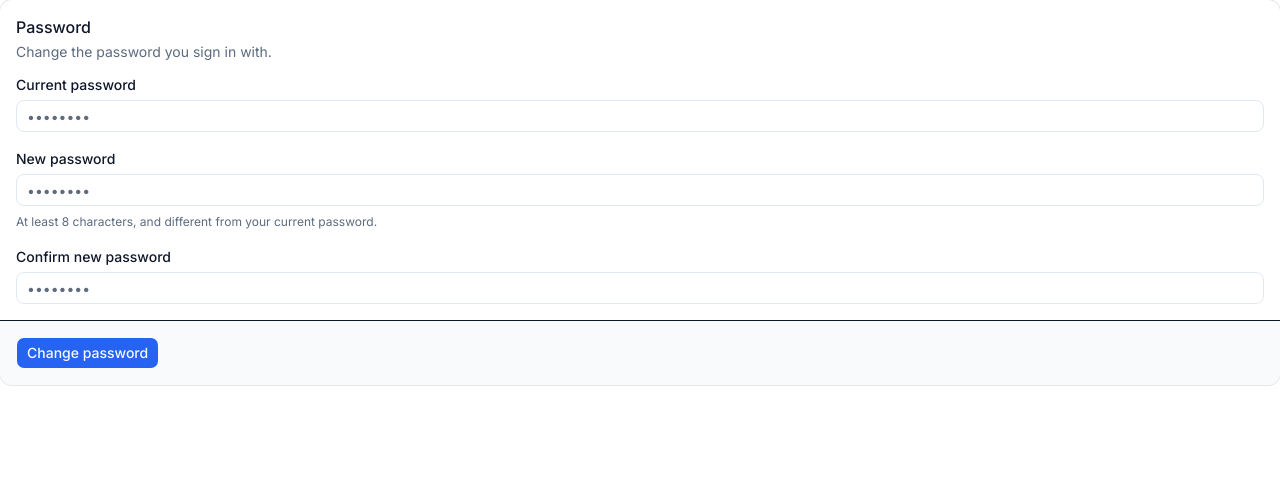
Test: ChangePasswordForm – submission › shows a pending state and blocks double submission while the action runs
Type "old-correct-horse" into the password field labelled "Current password" at x=640, y=116, box [16,100,1264,132]
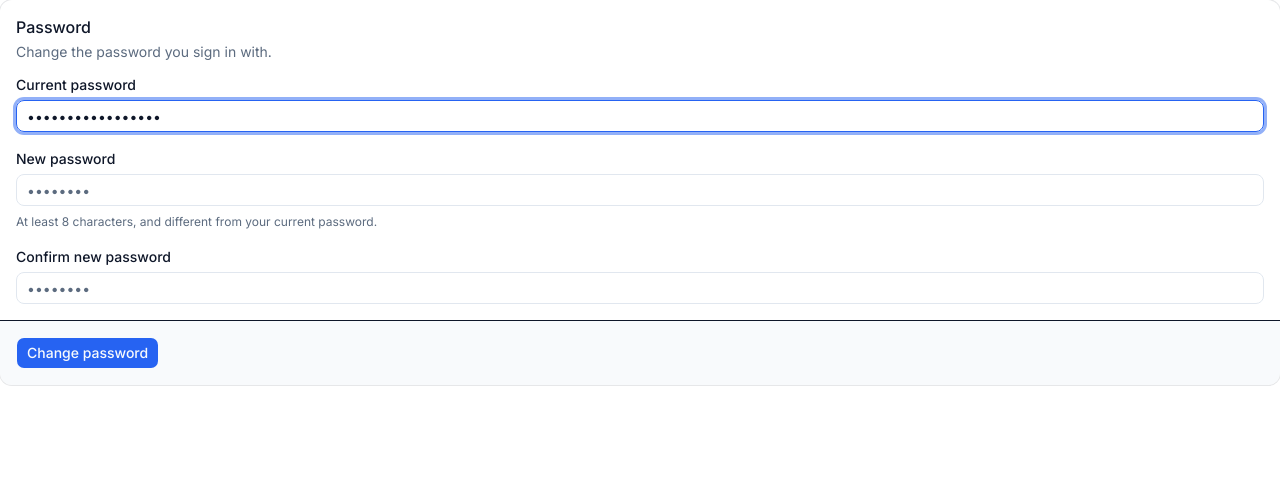
Type "new-battery-staple" into the password field labelled "New password" at x=640, y=190, box [16,174,1264,206]
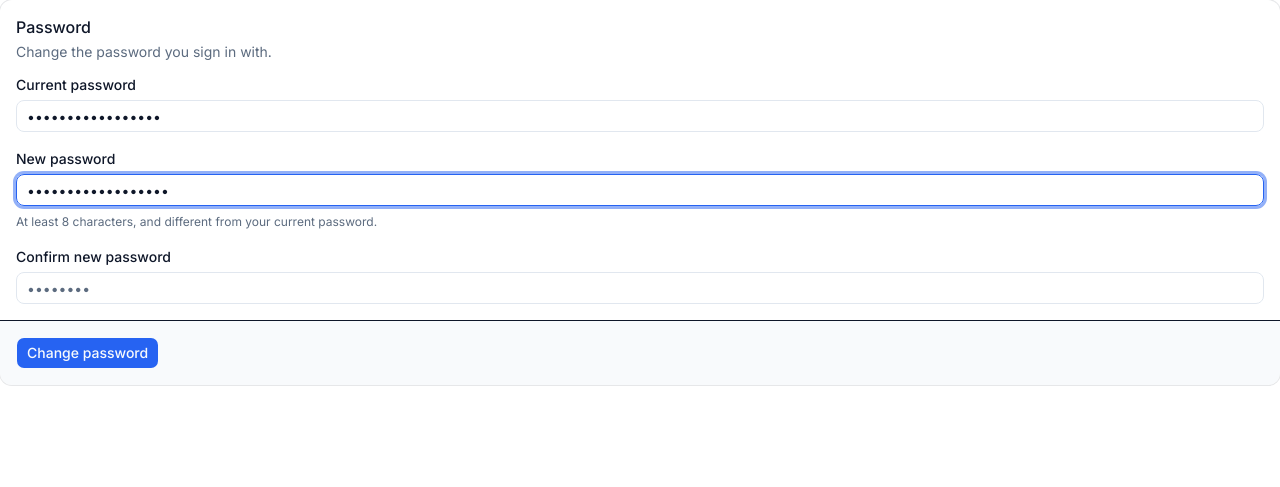
Type "new-battery-staple" into the password field labelled "Confirm new password" at x=640, y=288, box [16,272,1264,304]
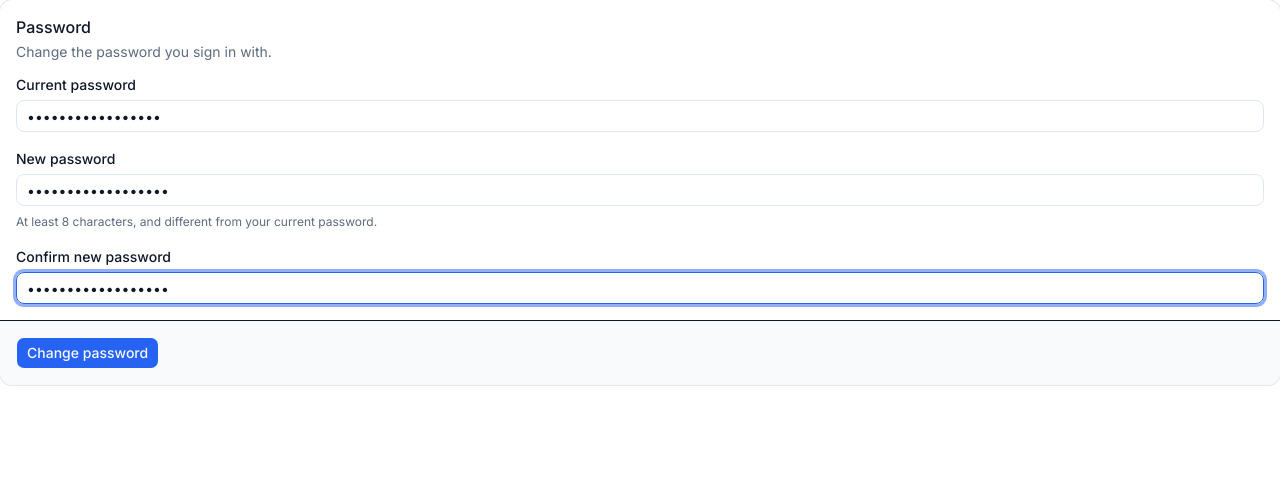
Click the button "Change password" at x=88, y=353, box [16,337,159,369]
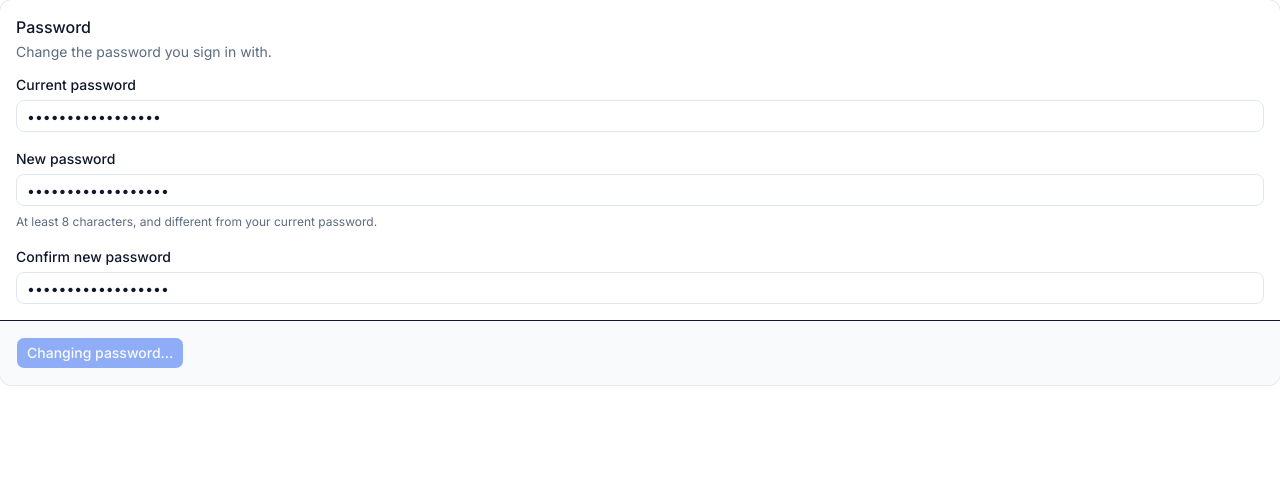
Expected: the button "Changing password…" is disabled
Click the button "Changing password…" at x=100, y=353, box [16,337,184,369]
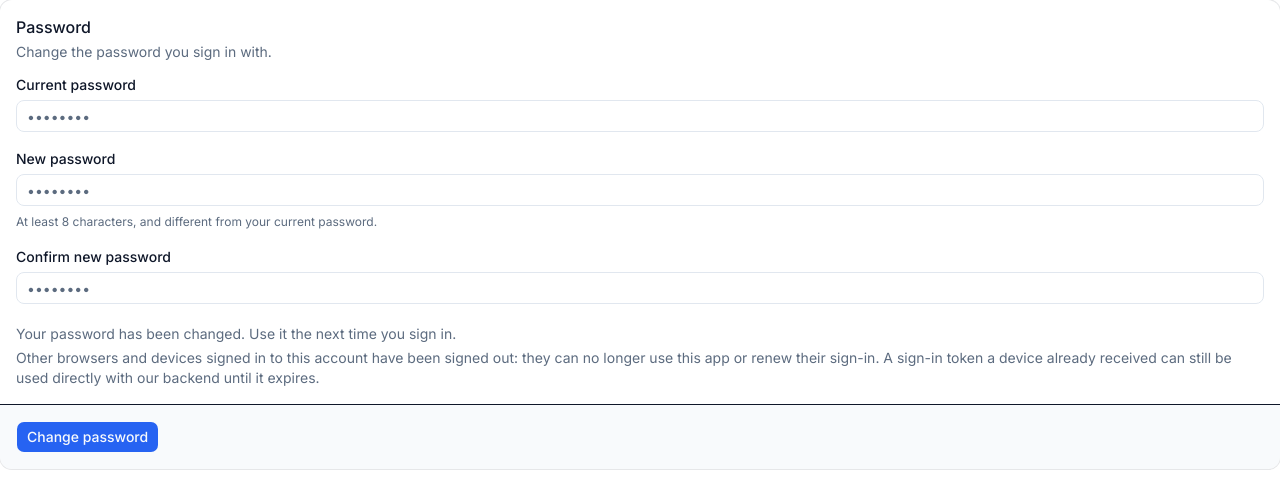
Expected: the message is shown, [16,324,1264,388]
Expected: the button "Change password" is enabled, [16,421,159,453]
